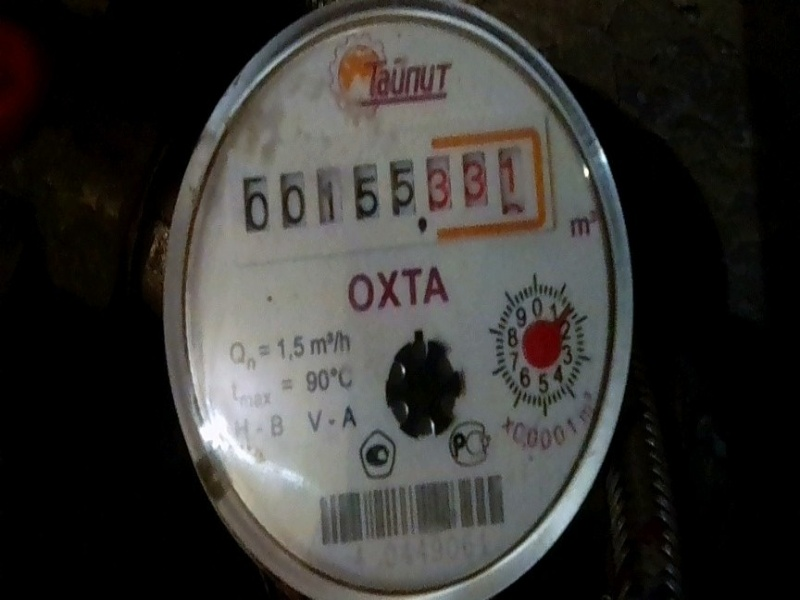dial: (231, 144, 543, 228)
